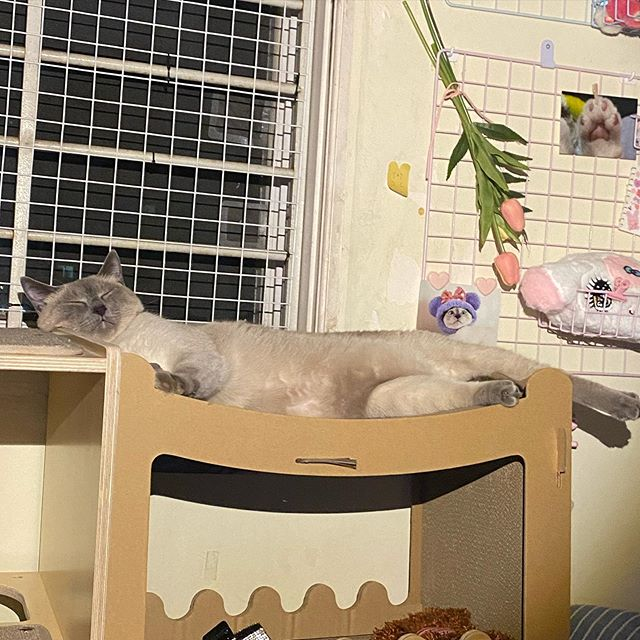cat: (9, 244, 150, 351)
